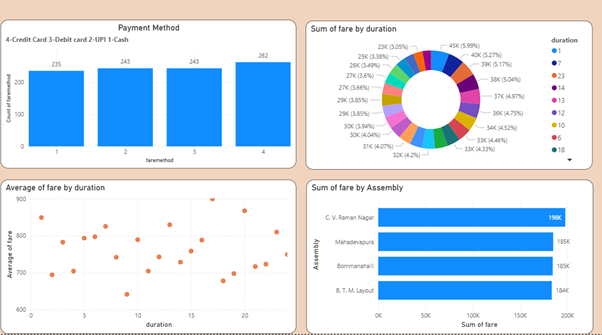

The page's visual inventory and layout, read from the dashboard file:
{"tool":"powerbi","page":{"name":"Page 2","canvas":[1280,720],"ordinal":1},"visuals":[{"type":"clusteredColumnChart","title":"Payment Method","fields":{"Category":["Trips.faremethod"],"Y":["CountNonNull(Trips.faremethod)"]},"box":[16.6,79,604.3,303.4],"z":0},{"type":"donutChart","fields":{"Category":["Trips.duration"],"Y":["Sum(Trips.fare)"]},"box":[640,80,586.2,303.8],"z":1000},{"type":"scatterChart","fields":{"Y":["Avg(Trips.fare)"],"X":["Trips.duration"]},"box":[16.6,405.4,604.3,314.9],"z":2000},{"type":"barChart","fields":{"Y":["Sum(Trips.fare)"],"Category":["Assembly.Assembly"]},"box":[641.2,405,586.2,315],"z":3000}]}

Visuals, with their boxes in screenshot pixels (x1, y1, x2, y2), scaled from the page's 1280x720 canvas onto the 602x335 screenshot:
"Payment Method" clusteredColumnChart: detection(8, 37, 292, 178)
donutChart - Trips.duration x Sum(Trips.fare): detection(301, 37, 577, 179)
scatterChart - Avg(Trips.fare) x Trips.duration: detection(8, 189, 292, 334)
barChart - Sum(Trips.fare) x Assembly.Assembly: detection(302, 188, 577, 334)
